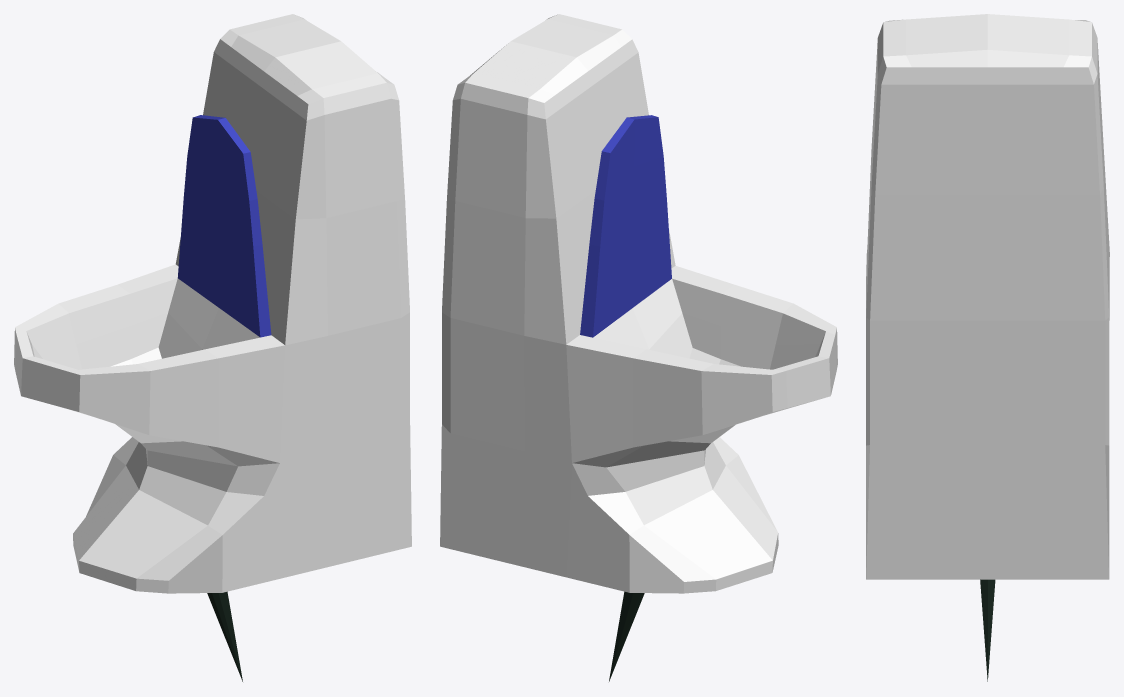
The model's file is jamivessa1.fbx.
The picture shows the model from 3 angles, left to right: view 1: azimuth 30°, elevation 25°; view 2: azimuth 150°, elevation 25°; view 3: azimuth 270°, elevation 25°; orthographic projection. The views are drawn at different scales.
Parts seen in each view (by area): view 1: Cube; view 2: Cube; view 3: Cube.
Part boxes in pixels (<box>): Cube: <box>14,14,411,681</box>; Cube: <box>440,14,837,681</box>; Cube: <box>866,14,1109,681</box>.
Size of the model in its own units: 5.32 by 3.01 by 9.35.
